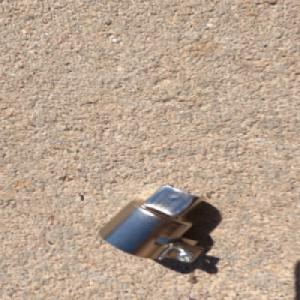MetalPart: (96, 183, 206, 264)
